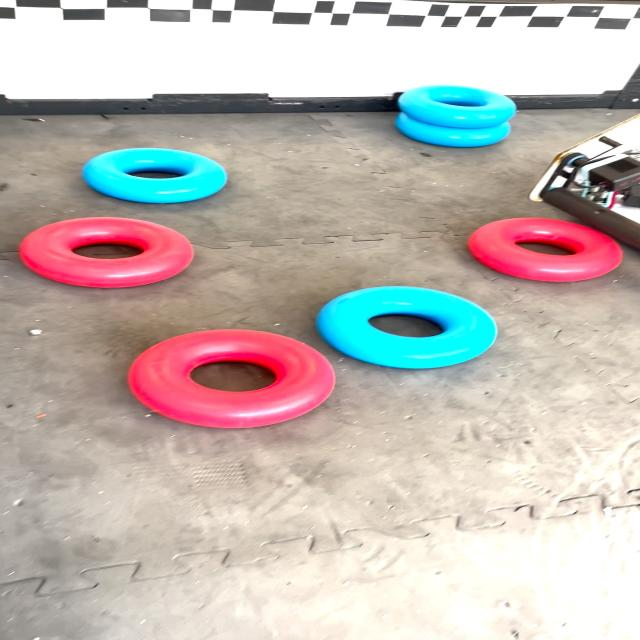Blue-Ring: (316, 286, 498, 369), (82, 148, 227, 204), (398, 85, 516, 129), (396, 112, 511, 148)
Red-Ring: (129, 330, 336, 428), (20, 218, 193, 288), (469, 218, 622, 282), (191, 336, 196, 339)
